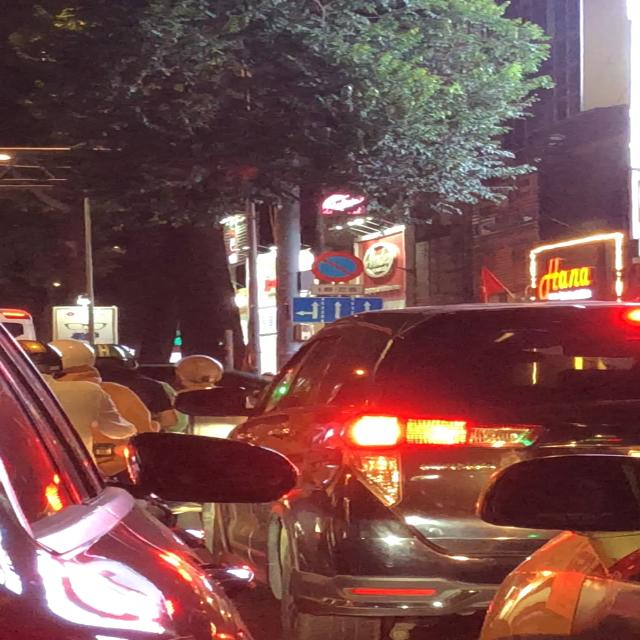Bien bao cam do xe: (311, 251, 372, 285)
